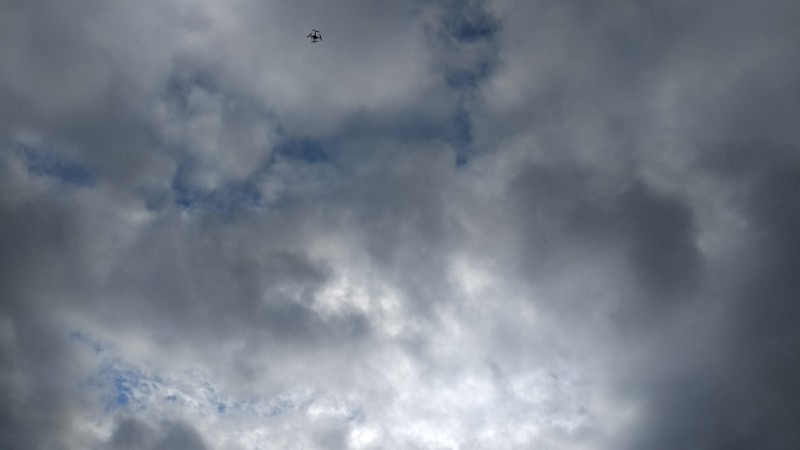drone: (305, 29, 323, 43)
